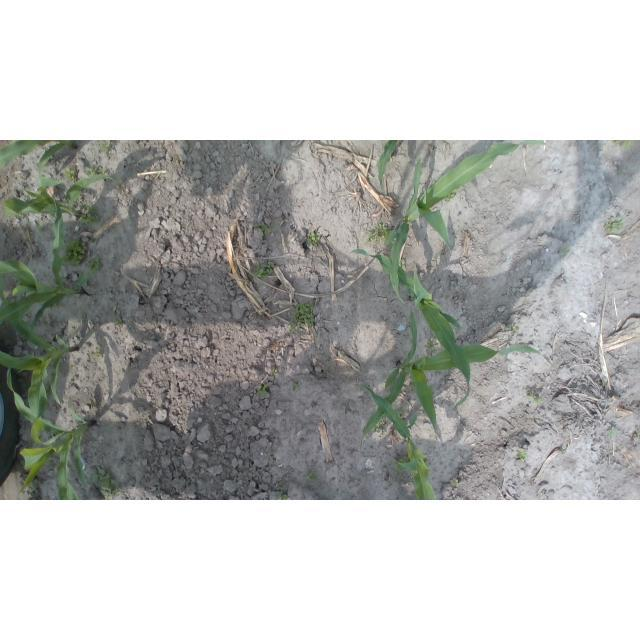Maize: (359, 305, 554, 452), (388, 140, 546, 302), (348, 249, 472, 412), (1, 276, 88, 424), (0, 189, 86, 335), (6, 364, 95, 500), (350, 381, 436, 500), (4, 174, 125, 220), (0, 140, 78, 174), (378, 141, 402, 200)
Weeds: (287, 300, 316, 332), (91, 467, 120, 497), (60, 239, 86, 266), (79, 202, 102, 224), (365, 224, 387, 245), (252, 261, 274, 278), (605, 216, 625, 233), (88, 257, 104, 276), (19, 478, 37, 492), (306, 232, 320, 249), (444, 189, 461, 202), (305, 468, 319, 483), (371, 420, 386, 433), (426, 337, 439, 352), (64, 167, 76, 183), (526, 394, 542, 405), (99, 141, 112, 154), (256, 384, 269, 397), (49, 298, 64, 309), (256, 222, 269, 234), (397, 404, 408, 417), (616, 140, 633, 148), (518, 450, 527, 463), (84, 167, 97, 176), (113, 315, 123, 325), (395, 464, 407, 472), (398, 259, 406, 270), (408, 381, 416, 392), (47, 457, 54, 469), (560, 246, 569, 255), (94, 348, 102, 358), (509, 324, 519, 332), (97, 167, 107, 175), (399, 456, 410, 463), (276, 494, 288, 500), (607, 429, 616, 437), (36, 224, 44, 232), (451, 478, 459, 486), (32, 492, 40, 500), (291, 384, 297, 393), (620, 169, 627, 176), (272, 369, 278, 375), (637, 429, 640, 436)
